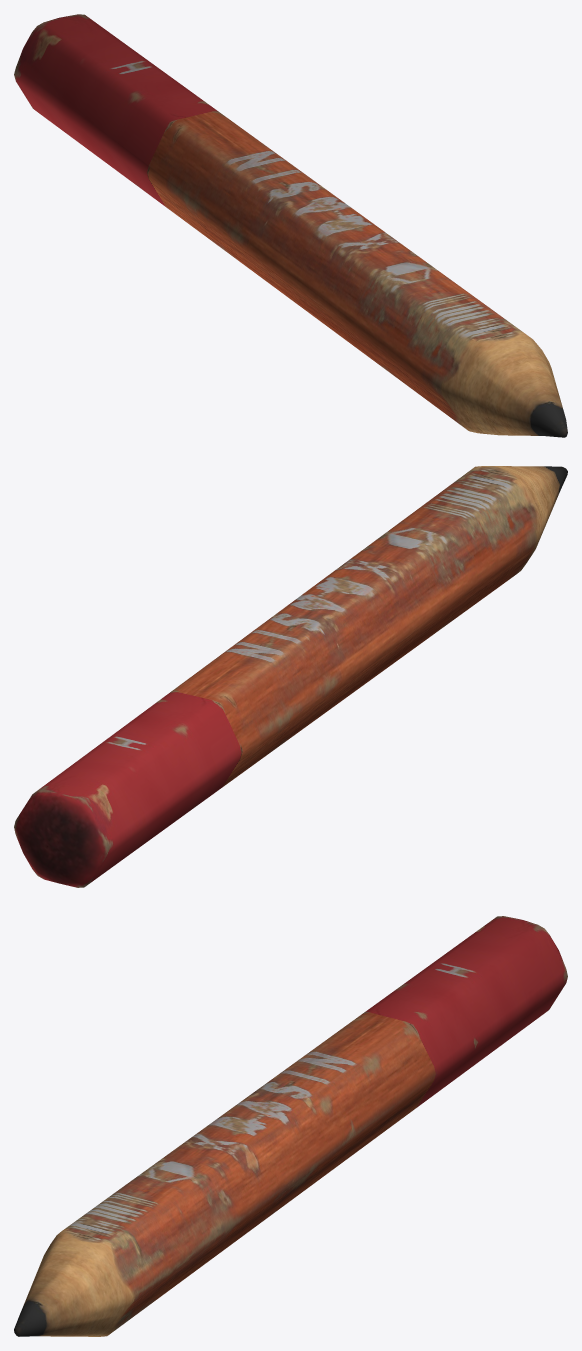
The model's file is pencil_4.glb.
3 renders of one model, top to bottom at view 1: azimuth 30°, elevation 25°; view 2: azimuth 150°, elevation 25°; view 3: azimuth 330°, elevation 25°, orthographic.
Visible parts, largest first — view 1: Pencil_Low; view 2: Pencil_Low; view 3: Pencil_Low.
Boxes of the visible parts, x1,y1,x2,y2 form: Pencil_Low: (14,14,567,437); Pencil_Low: (14,466,567,887); Pencil_Low: (14,916,567,1336).
Size of the model in its own units: 0.00594 by 0.0054 by 0.0529.
Materials: 1 (1 with a texture image).
